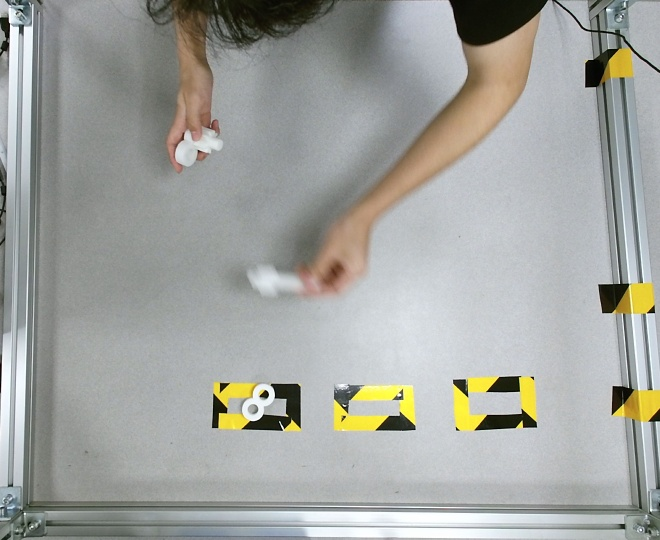stage_2: (176, 125, 223, 166)
